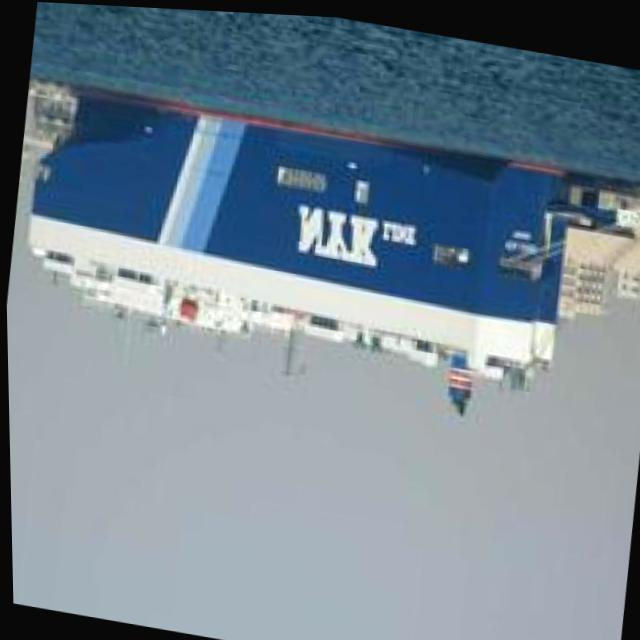ship2: (24, 81, 594, 409)
